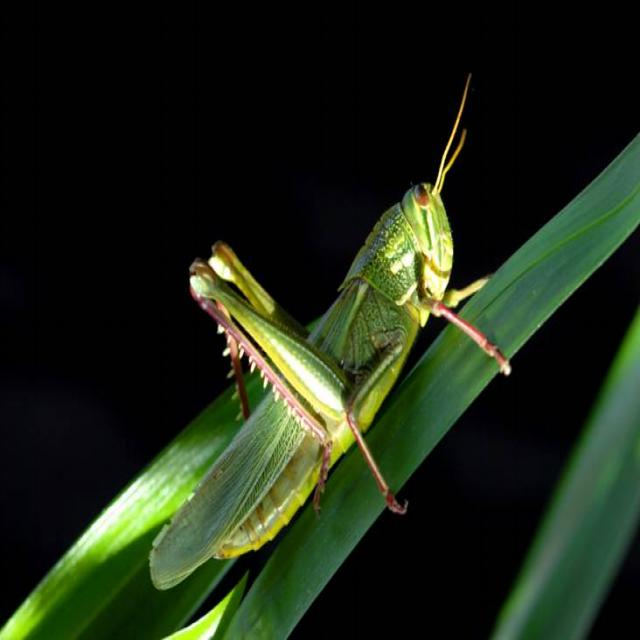ZhaMeng: (115, 89, 482, 593)
